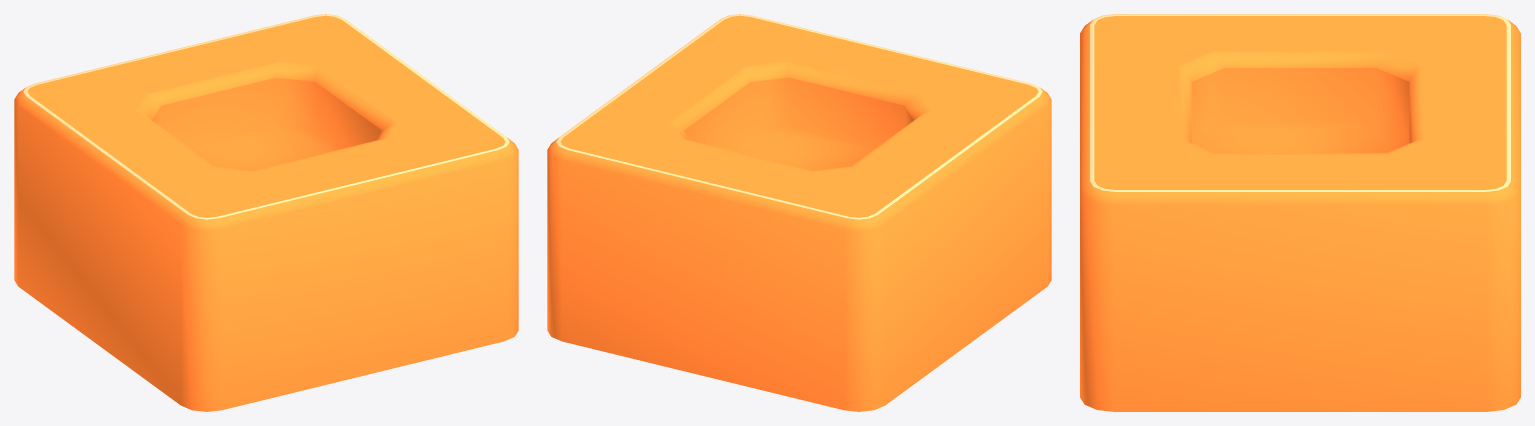
The model's file is cell_orange.glb.
3 views of the same model, side by side, from view 1: azimuth 30°, elevation 25°; view 2: azimuth 150°, elevation 25°; view 3: azimuth 270°, elevation 25° (orthographic). The views are drawn at different scales.
Visible parts, largest first — view 1: cell_orange; view 2: cell_orange; view 3: cell_orange.
Part boxes in pixels (x1,y1,x2,y2): cell_orange: (14,14,518,411); cell_orange: (547,14,1051,411); cell_orange: (1080,14,1520,411).
Size of the model in its own units: 1 by 0.54 by 1.
Materials: 1 (1 with a texture image).
